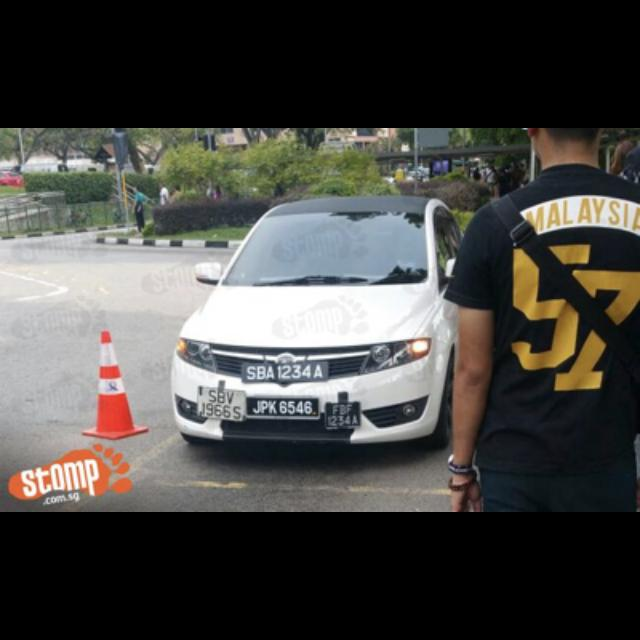carPlate: (247, 397, 320, 418)
